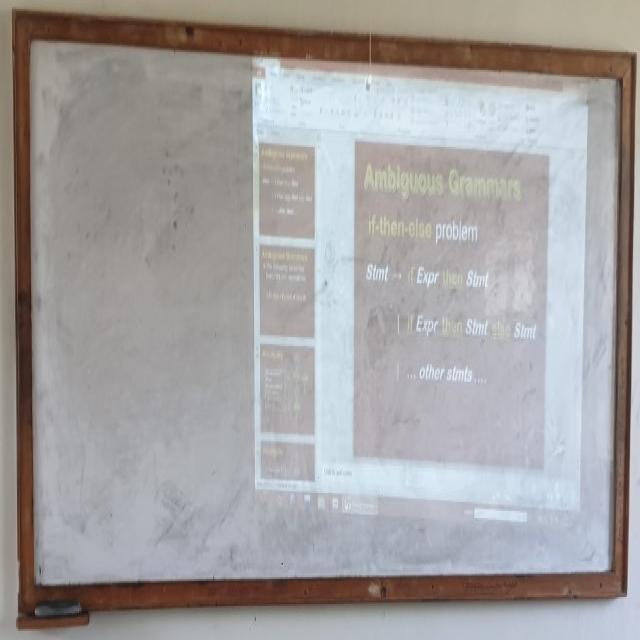Slide: (253, 43, 588, 535)
White-board: (22, 25, 627, 601)
